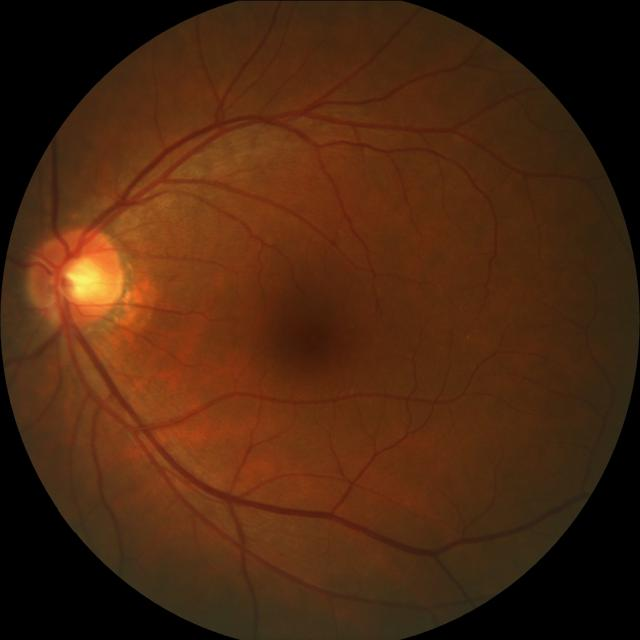OC: (56, 249, 104, 308)
OD: (28, 226, 127, 331)
